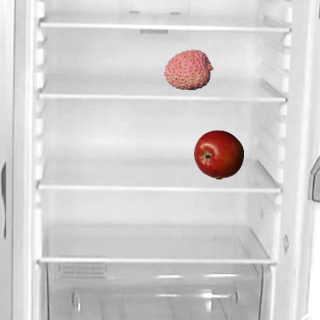Apple Braeburn: (193, 129, 243, 179)
Lychee: (163, 44, 213, 94)
